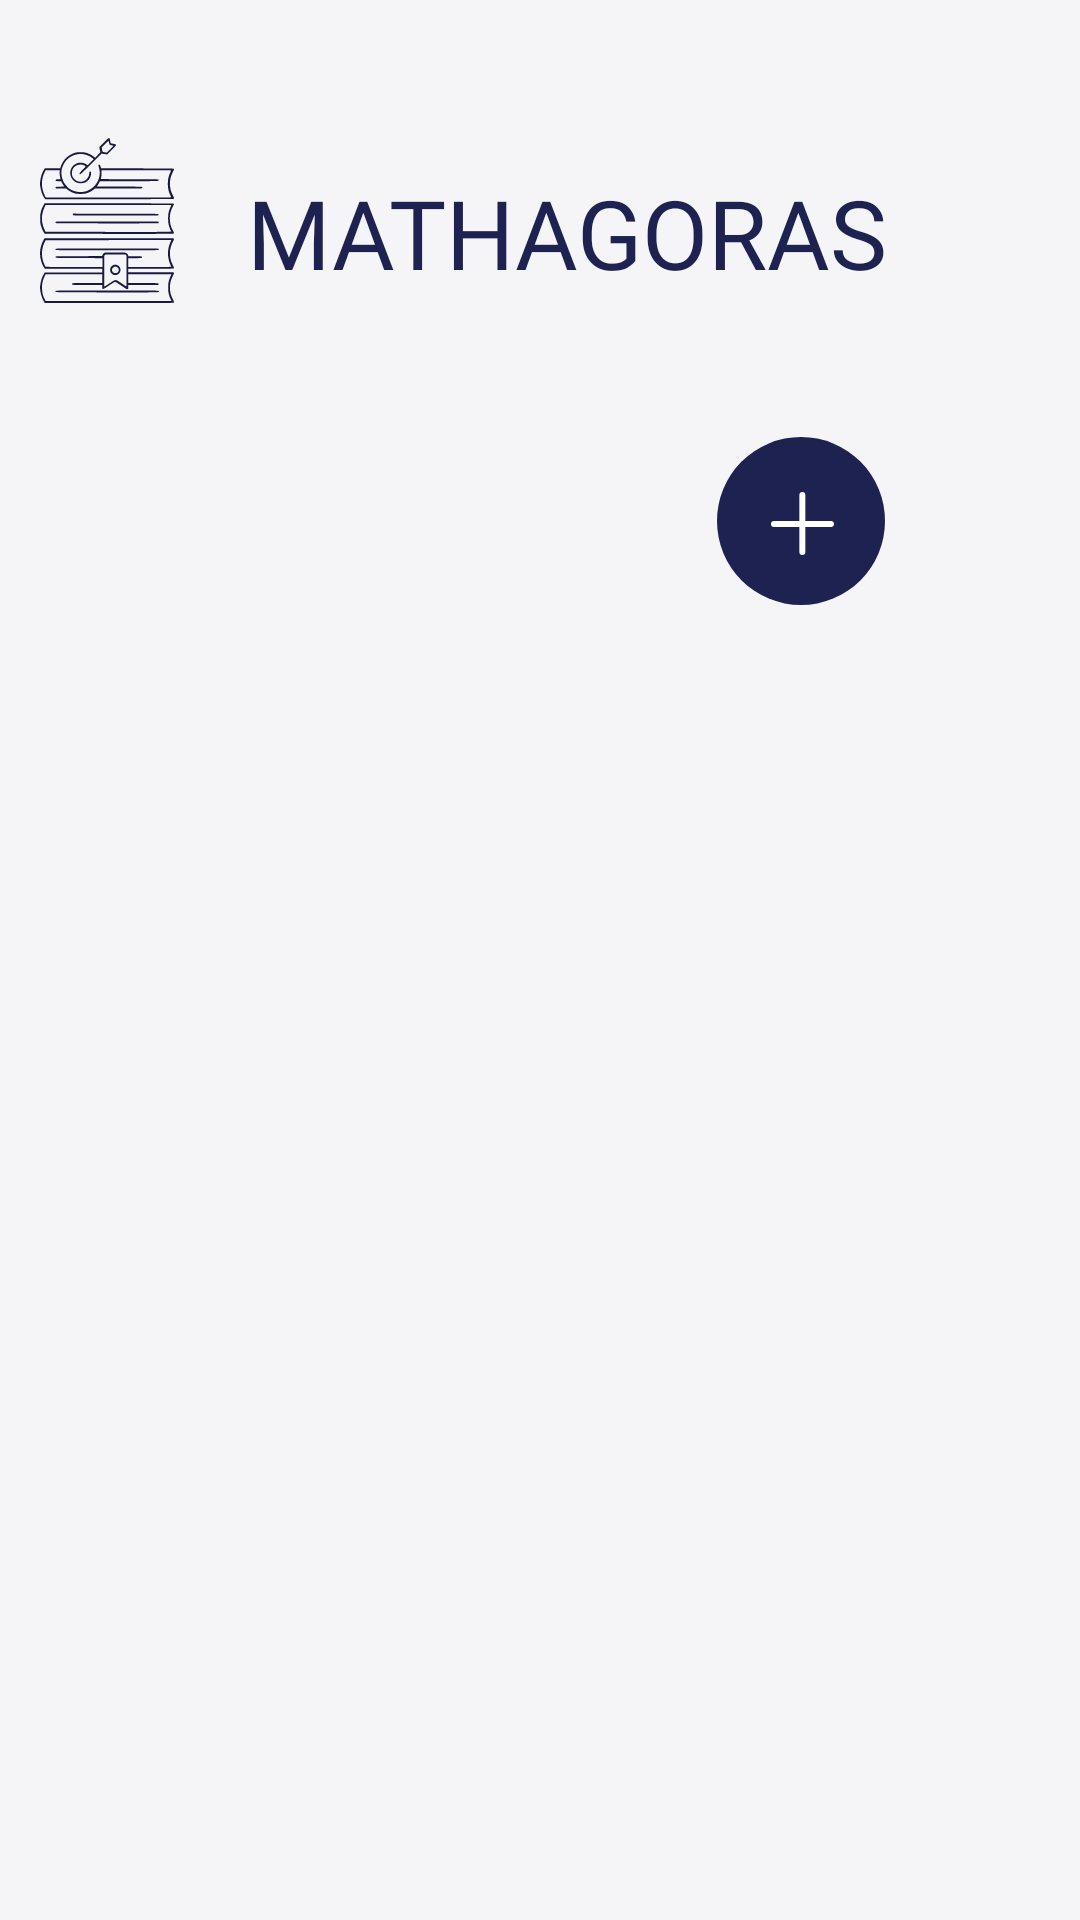

Locate icon controls on the screen. Image size 1080px x 1920px, boxes as (x1, y1, x2, y2).
addclass: (717, 437, 885, 605)
